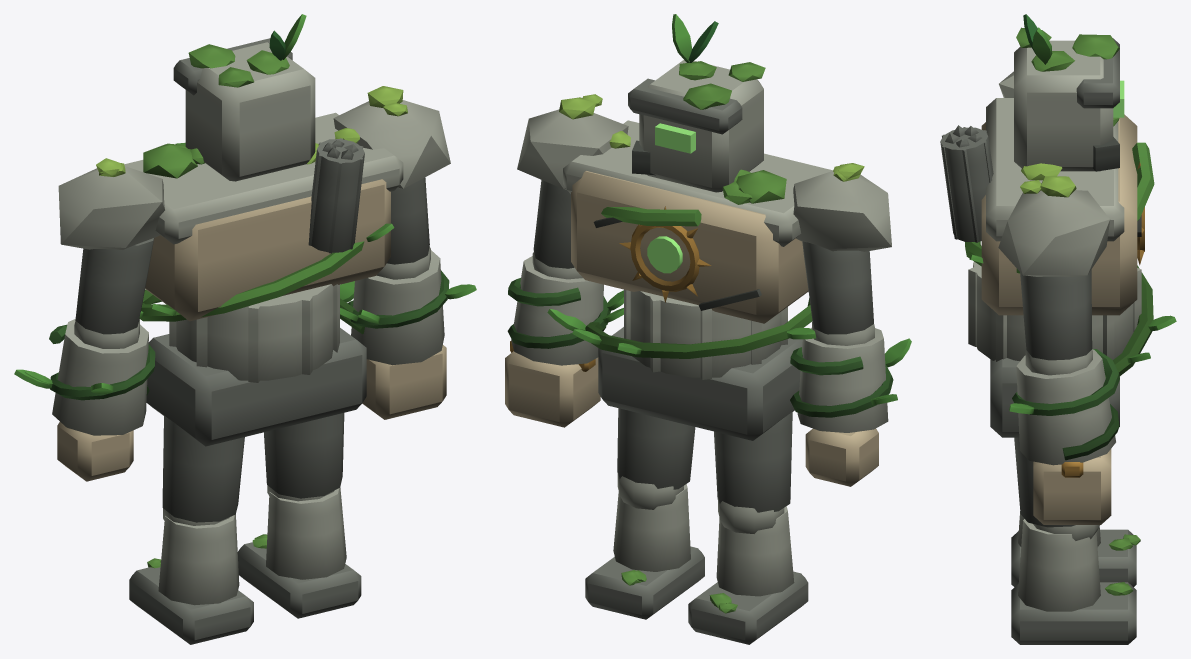
Rendered from mob_ruin_guardian.fbx.
The picture shows the model from 3 angles, left to right: view 1: azimuth 30°, elevation 25°; view 2: azimuth 150°, elevation 25°; view 3: azimuth 270°, elevation 25°; orthographic projection. The views are drawn at different scales.
Visible parts, largest first — view 1: Body, Head, ArmL, ForearmL, ForearmR, KneeL, KneeR, ArmR, LegL, LegR; view 2: Body, Head, ForearmR, ForearmL, ArmL, KneeL, KneeR, ArmR, LegL, LegR, Body_Glow_Spring, Head_Glow_Spring; view 3: Body, ForearmR, ArmR, Head, KneeR, KneeL, LegR.
Boxes of the visible parts, <box> form: Body: <box>124,112,403,446</box>; Head: <box>173,14,315,181</box>; ArmL: <box>58,158,164,334</box>; ForearmL: <box>14,319,155,481</box>; ForearmR: <box>340,247,476,419</box>; KneeL: <box>129,508,253,644</box>; KneeR: <box>237,485,361,618</box>; ArmR: <box>333,86,450,264</box>; LegL: <box>162,415,244,522</box>; LegR: <box>264,413,344,498</box>; Body: <box>547,120,832,440</box>; Head: <box>628,14,765,192</box>; ForearmR: <box>505,252,623,427</box>; ForearmL: <box>790,321,911,486</box>; ArmL: <box>793,163,891,334</box>; KneeL: <box>688,498,808,644</box>; KneeR: <box>585,472,704,619</box>; ArmR: <box>517,94,628,268</box>; LegL: <box>714,411,792,512</box>; LegR: <box>617,408,695,489</box>; Body_Glow_Spring: <box>647,236,682,273</box>; Head_Glow_Spring: <box>655,123,695,153</box>; Body: <box>940,98,1176,437</box>; ForearmR: <box>1009,349,1119,524</box>; ArmR: <box>998,176,1109,360</box>; Head: <box>1014,14,1119,171</box>; KneeR: <box>1011,519,1136,644</box>; KneeL: <box>1011,511,1140,586</box>; LegR: <box>1014,437,1075,527</box>.
Size of the model in its own units: 563 by 762 by 273.
2 materials, 1 textured.
